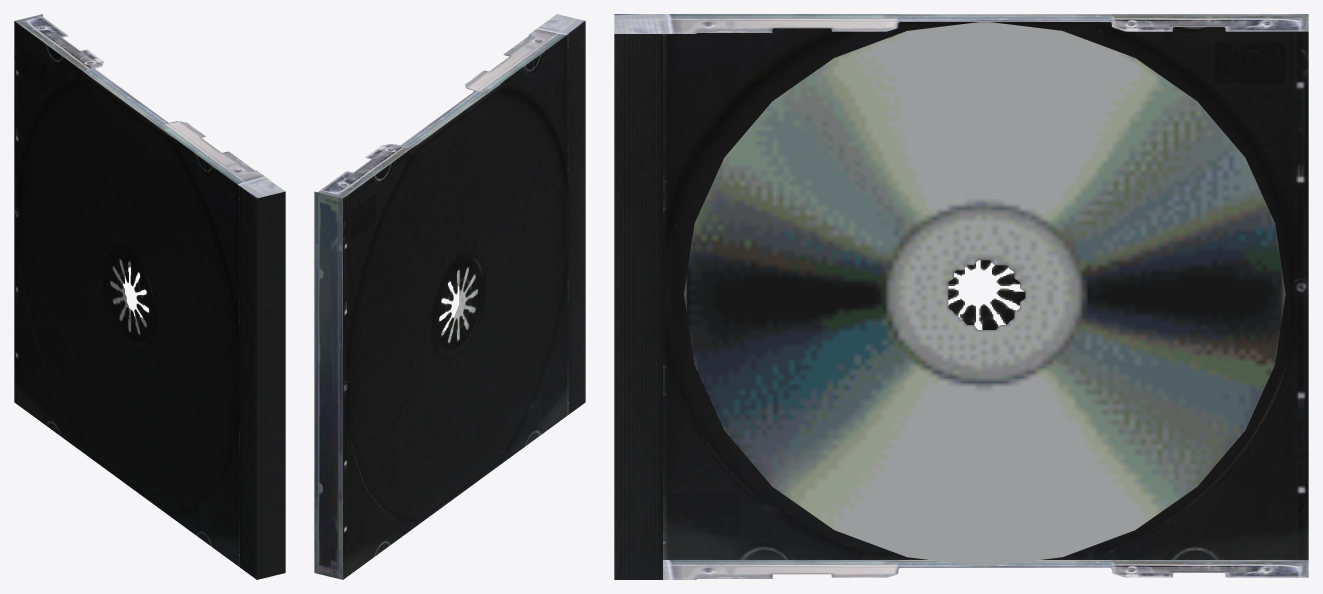
Rendered from Диск с пэй горн.fbx.
3 renders of one model, left to right at view 1: azimuth 30°, elevation 25°; view 2: azimuth 150°, elevation 25°; view 3: azimuth 270°, elevation 25°, orthographic. The views are drawn at different scales.
Visible parts, largest first — view 1: CD Case; view 2: CD Case; view 3: CD Case.
Part boxes in pixels (left/top/right/bottom): CD Case: left=14, top=14, right=285, bottom=579; CD Case: left=314, top=14, right=585, bottom=579; CD Case: left=614, top=14, right=1308, bottom=579.
Size of the model in its own units: 0.985 by 12.54 by 14.45.
2 materials, 2 textured.
